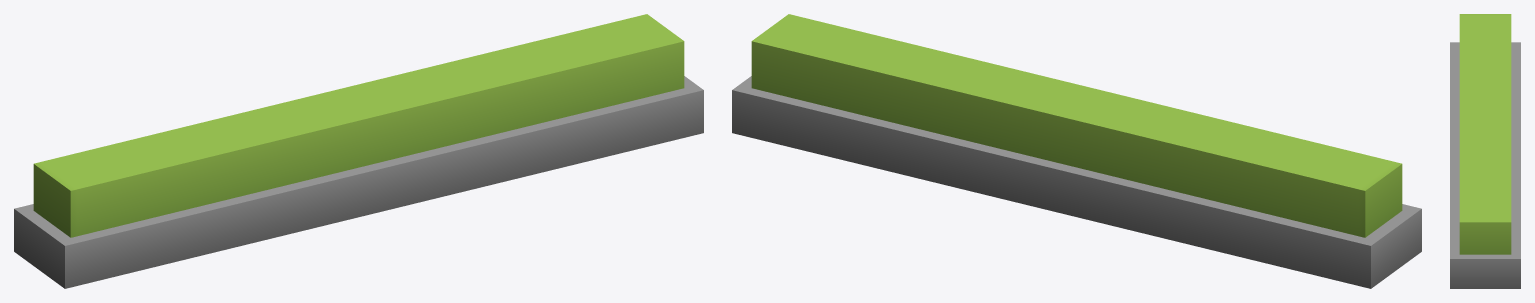
The model's file is plants 5.fbx.
3 renders of one model, left to right at view 1: azimuth 30°, elevation 25°; view 2: azimuth 150°, elevation 25°; view 3: azimuth 270°, elevation 25°, orthographic. The views are drawn at different scales.
Visible parts, largest first — view 1: plants_5; view 2: plants_5; view 3: plants_5.
Part boxes in pixels (x1,y1,x2,y2): plants_5: [14, 14, 703, 288]; plants_5: [732, 14, 1421, 288]; plants_5: [1450, 14, 1520, 288].
Size of the model in its own units: 553 by 74.35 by 76.35.
Materials: 1 (1 with a texture image).
